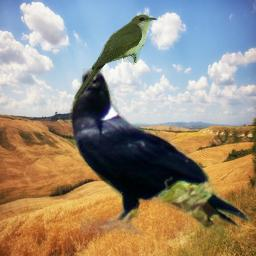Crow: (68, 68, 252, 234)
Cuckoo: (74, 14, 157, 101)
